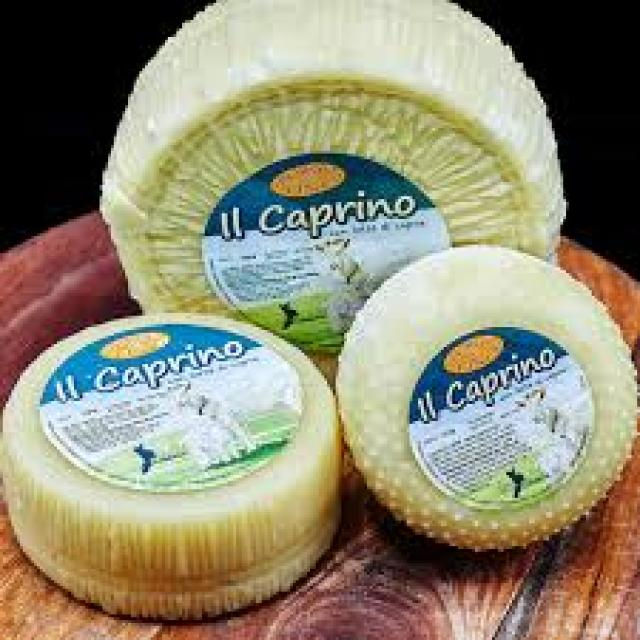Cheese: (80, 0, 595, 360), (1, 299, 336, 625), (315, 257, 635, 558)
